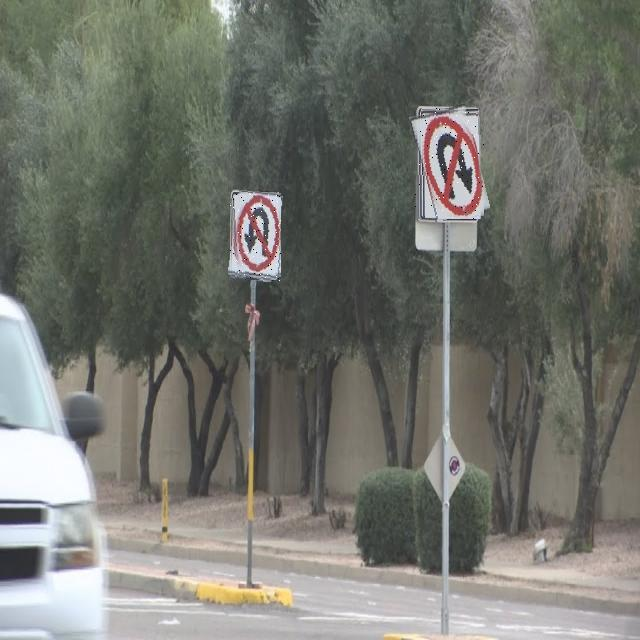no u turn: (415, 107, 484, 219), (230, 192, 281, 281)
